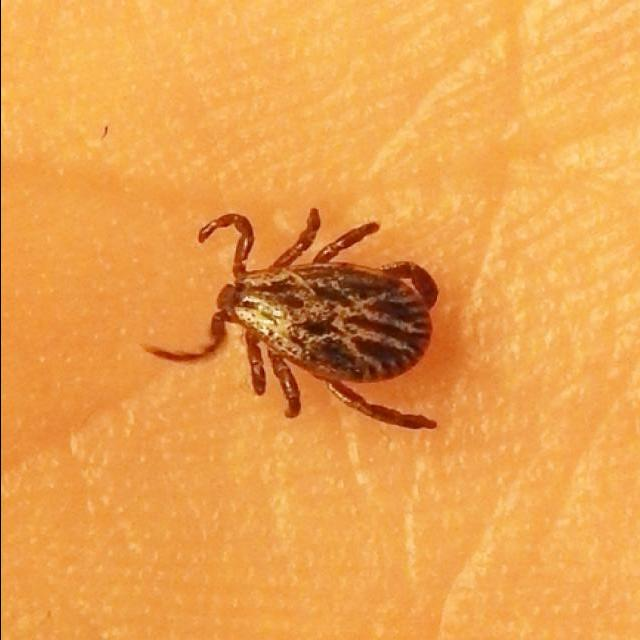Dermacentor Reticulatus-F: (145, 209, 437, 430)
